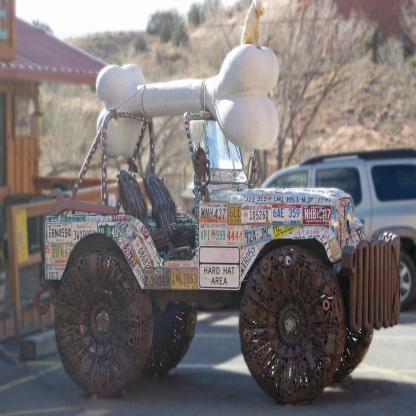Car: (19, 56, 416, 404), (197, 148, 416, 312)
